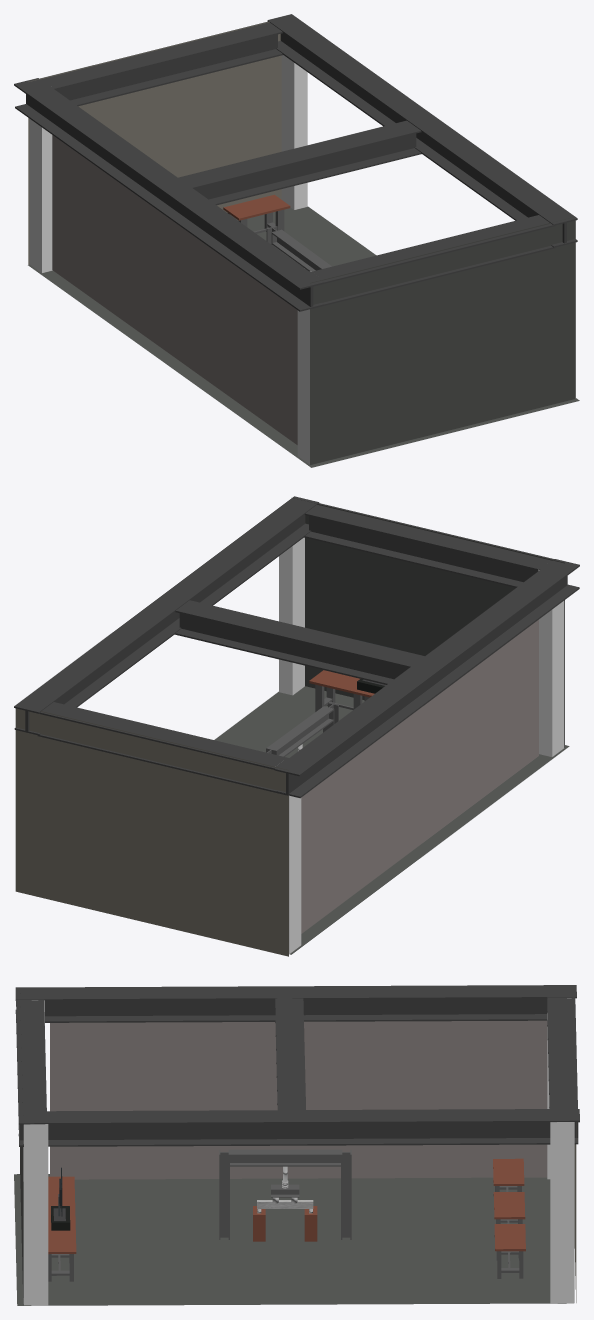
The model's file is escenario-CR-flexion.gltf.
3 renders of one model, top to bottom at view 1: azimuth 30°, elevation 25°; view 2: azimuth 150°, elevation 25°; view 3: azimuth 270°, elevation 25°, orthographic.
Parts seen in each view (by area): view 1: ParedFondo, ParedIzquierda.005, ParedDerecha, Piso, Vigas_Amarre.127, Vigas_Amarre.056, Columna3, Vigas_Amarre.094, Vigas_Amarre.162, Vigas_Amarre.021, Vigas_Amarre.178, Vigas_Amarre.102 (+18 smaller); view 2: ParedDerecha, ParedIzquierda.005, ParedFondo, Piso, Vigas_Amarre.127, Columna2, Vigas_Amarre.056, Vigas_Amarre.100, Vigas_Amarre.003, Vigas_Amarre.162, Vigas_Amarre.094, Vigas_Amarre.021 (+17 smaller); view 3: Piso, ParedIzquierda.005, Vigas_Amarre.127, Columna1, Vigas_Amarre.071, Columna4, Vigas_Amarre.139, Vigas_Amarre.056, Vigas_Amarre.021, Vigas_Amarre.094, Vigas_Amarre.162, Vigas_Amarre.076 (+28 smaller).
Part boxes in pixels (bbox=[...]): ParedFondo: bbox=[310, 216, 575, 464]; ParedIzquierda.005: bbox=[52, 135, 297, 444]; ParedDerecha: bbox=[28, 21, 281, 264]; Piso: bbox=[28, 206, 579, 467]; Vigas_Amarre.127: bbox=[14, 78, 276, 254]; Vigas_Amarre.056: bbox=[364, 82, 530, 190]; Columna3: bbox=[29, 119, 52, 272]; Vigas_Amarre.094: bbox=[178, 120, 420, 187]; Vigas_Amarre.162: bbox=[40, 21, 282, 88]; Vigas_Amarre.021: bbox=[310, 215, 552, 282]; Vigas_Amarre.178: bbox=[55, 34, 277, 100]; Vigas_Amarre.102: bbox=[194, 133, 416, 199]; ParedDerecha: bbox=[15, 708, 288, 956]; ParedIzquierda.005: bbox=[301, 619, 538, 933]; ParedFondo: bbox=[293, 498, 564, 747]; Piso: bbox=[214, 686, 569, 954]; Vigas_Amarre.127: bbox=[275, 593, 533, 774]; Columna2: bbox=[538, 569, 564, 756]; Vigas_Amarre.056: bbox=[108, 530, 272, 641]; Vigas_Amarre.100: bbox=[179, 613, 408, 679]; Vigas_Amarre.003: bbox=[309, 516, 538, 582]; Vigas_Amarre.162: bbox=[40, 702, 288, 768]; Vigas_Amarre.094: bbox=[176, 600, 424, 666]; Vigas_Amarre.021: bbox=[305, 503, 554, 569]; Piso: bbox=[14, 1174, 573, 1305]; ParedIzquierda.005: bbox=[50, 1020, 547, 1179]; Vigas_Amarre.127: bbox=[107, 985, 576, 998]; Columna1: bbox=[23, 1124, 48, 1305]; Vigas_Amarre.071: bbox=[110, 1123, 392, 1139]; Columna4: bbox=[550, 1122, 574, 1303]; Vigas_Amarre.139: bbox=[107, 999, 389, 1015]; Vigas_Amarre.056: bbox=[110, 1109, 391, 1122]; Vigas_Amarre.021: bbox=[16, 999, 46, 1111]; Vigas_Amarre.094: bbox=[275, 998, 305, 1110]; Vigas_Amarre.162: bbox=[547, 997, 577, 1108]; Vigas_Amarre.076: bbox=[392, 1122, 578, 1138].
Size of what is drawn, in the model's own units: 10.6 by 6.51 by 18.2.
18 materials, 1 textured.
